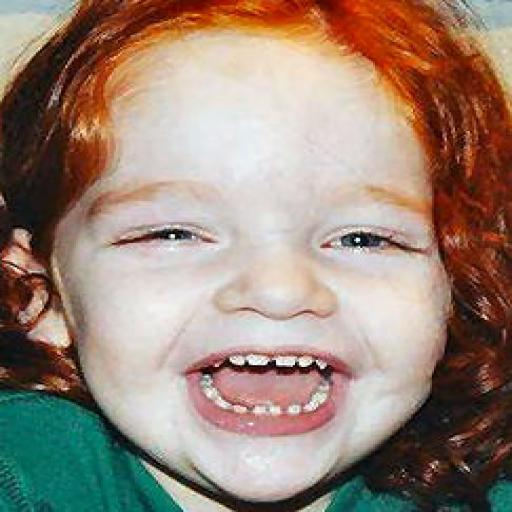Autism: (12, 3, 512, 512)
